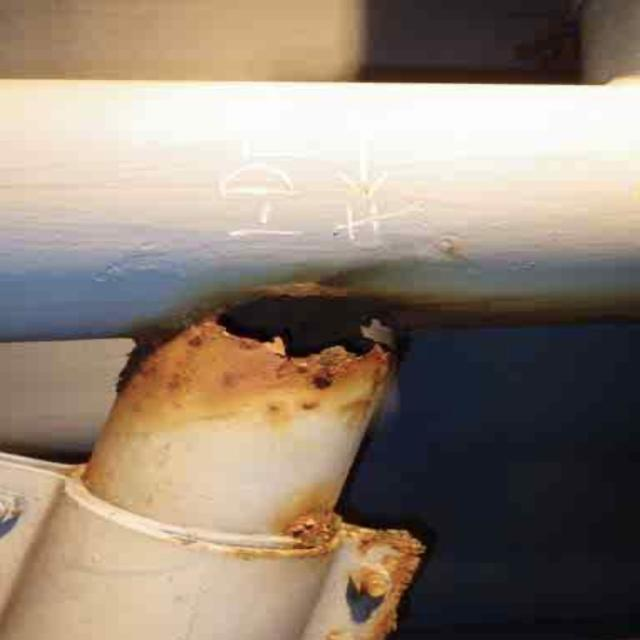corrosion: (117, 245, 453, 624)
